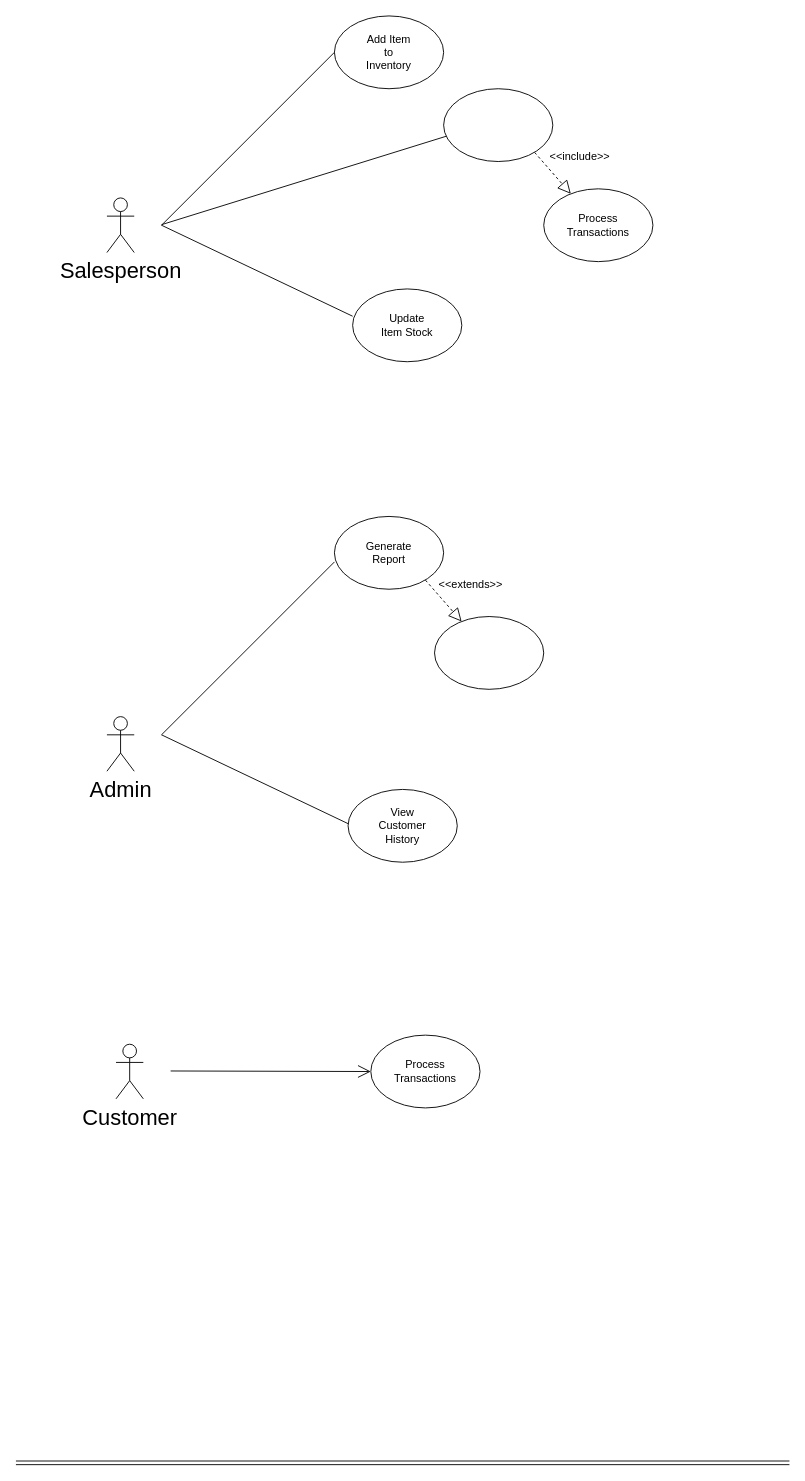
This 805x1481 diagram has some shape labels left out. Each missing label, with the centre of its shape:
Add Customer: the point at 498,125
View Inventory Status: the point at 489,652
